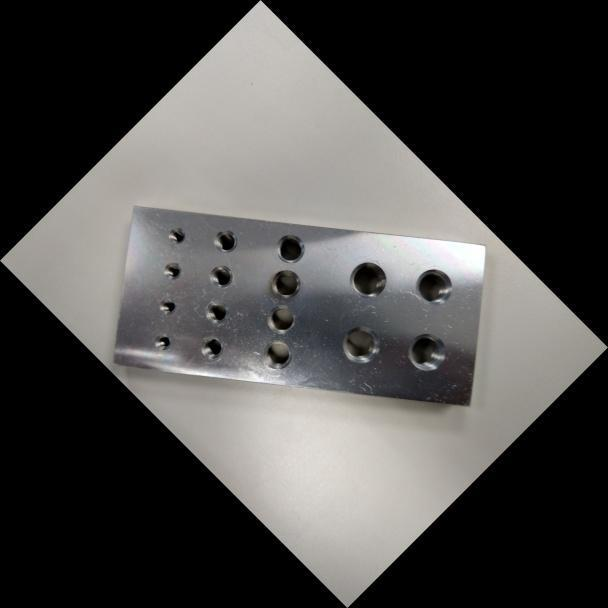hole: (333, 317, 389, 372), (399, 324, 454, 379), (407, 260, 461, 314), (341, 253, 394, 306), (264, 262, 307, 305), (269, 227, 311, 270), (256, 333, 298, 376), (260, 298, 301, 340), (199, 294, 234, 329), (204, 260, 238, 293), (195, 331, 228, 364), (209, 224, 242, 257), (149, 328, 175, 354), (159, 257, 185, 283), (155, 294, 180, 318), (165, 223, 189, 248)
